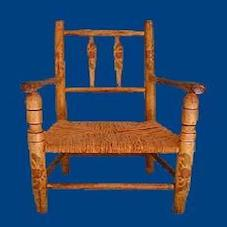chair: (8, 24, 205, 223)
